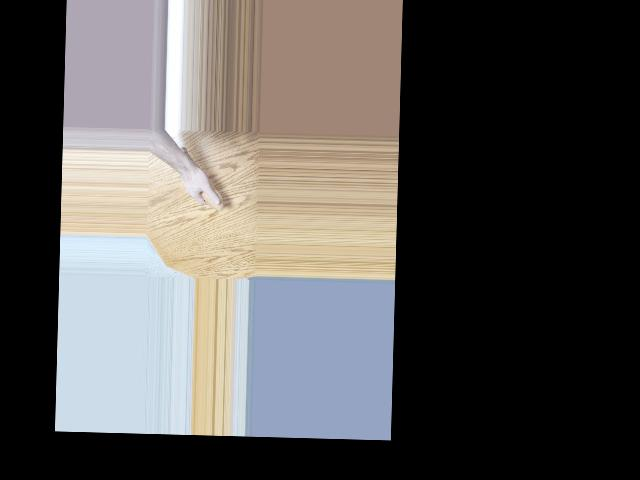sweet_potato: (174, 143, 225, 211)
